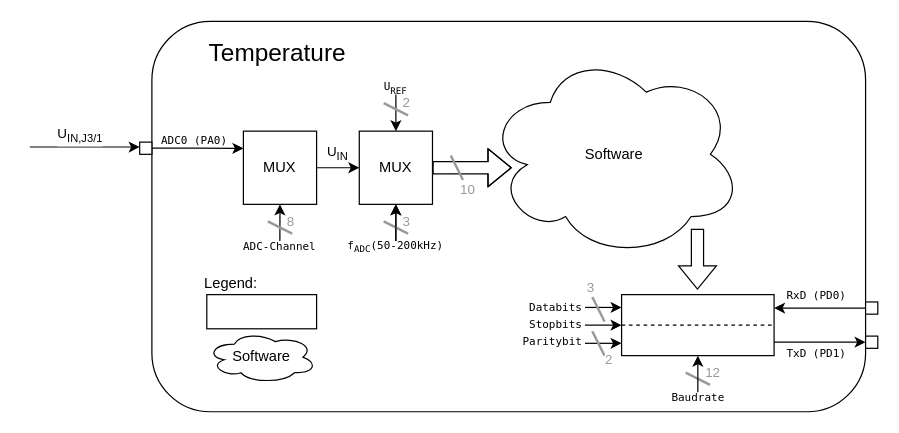
Image size: 899x433. Some labels were removed from this diagram. The shapes that lost their labels are listed below. From the top down, each one's centre as x and y in pixels, then its label:
At point 261,311: "Hardware".
At point 697,324: "UART".
